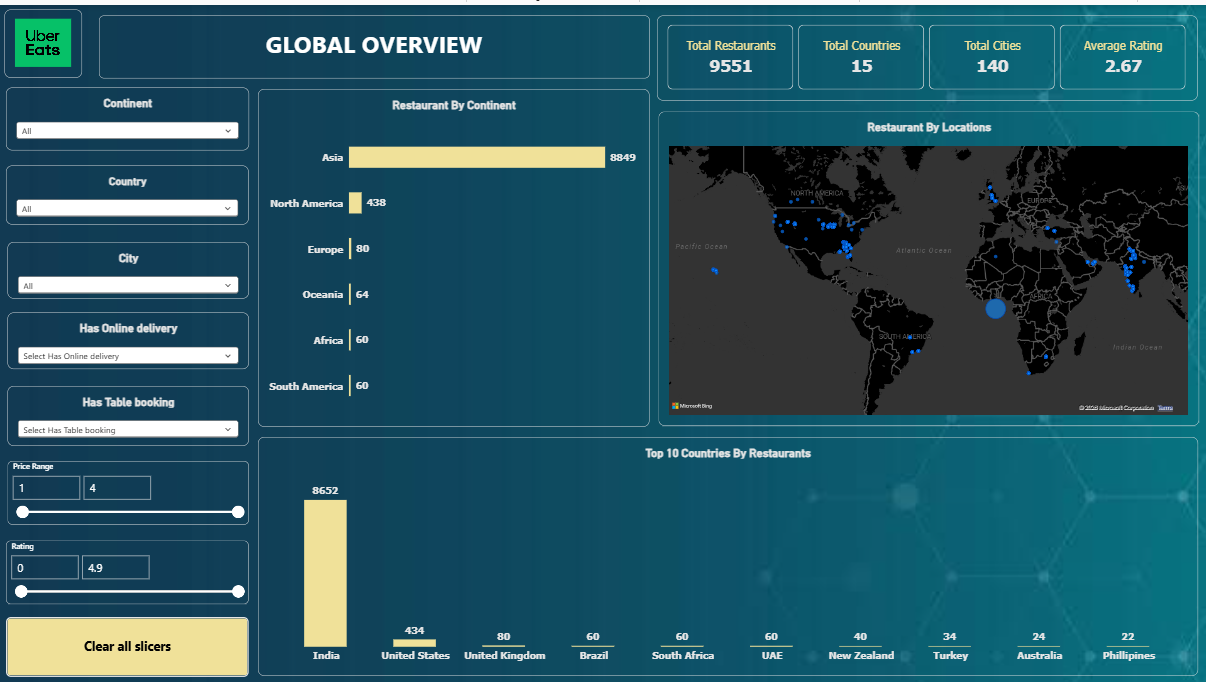

This screenshot's page, from the dashboard's own definition file:
{"tool":"powerbi","page":{"name":"Global Overview","canvas":[1920,1080],"ordinal":0},"visuals":[{"type":"image","box":[0,0,1920,1080],"z":0},{"type":"image","box":[8.3,8.3,123.3,108.3],"z":1000},{"type":"listSlicer","fields":{"Values":["Append1.Continent Hierarchy.Continent"]},"box":[9.5,131.2,386.5,100.2],"z":2000},{"type":"listSlicer","fields":{"Values":["Append1.Continent Hierarchy.Country"]},"box":[10,256,386,94],"z":3000},{"type":"listSlicer","fields":{"Values":["Append1.Continent Hierarchy.City"]},"box":[12,376,384,90],"z":4000},{"type":"listSlicer","fields":{"Values":["KPIs.Has Online delivery"]},"box":[12,490,384,90],"z":5000},{"type":"listSlicer","fields":{"Values":["KPIs.Has Table booking"]},"box":[12.5,605,383.8,95],"z":6000},{"type":"slicer","title":"Rating","fields":{"Values":["KPIs.Price range"]},"box":[12.5,726.2,383.8,101.2],"z":7000},{"type":"slicer","title":"Rating","fields":{"Values":["KPIs.Aggregate rating"]},"box":[10,852.5,386.2,101.2],"z":8000},{"type":"actionButton","box":[10,972.5,386.2,95],"z":9000},{"type":"textbox","box":[157.5,17.5,876.2,100],"z":10000},{"type":"cardVisual","fields":{"Data":["Rest Measures.Total Restaurants","Rest Measures.Total Countries","Rest Measures.Total Cities","Rest Measures.Average Rating"]},"box":[1045,17.5,860,135],"z":11000},{"type":"map","title":"Restaurant By Locations","fields":{"Size":["CountNonNull(Append1.Restaurant ID)"],"X":["Append1.Longitude"],"Y":["Append1.Latitude"]},"box":[1046.7,170,860,500],"z":12000},{"type":"clusteredBarChart","title":"Restaurant By Continent","fields":{"Category":["Append1.Continent"],"Y":["CountNonNull(Append1.Restaurant ID)"]},"box":[410,132.5,622.5,537.5],"z":13000},{"type":"clusteredColumnChart","title":"Top 10 Countries By Restaurants","fields":{"Category":["Append1.Country"],"Y":["CountNonNull(Append1.Restaurant ID)"]},"box":[410,687.5,1495,380],"z":14000}]}

Visuals, with their boxes in screenshot pixels (x1, y1, x2, y2), scaled from the page's 1920x1080 canvas onto the 1206x682 screenshot:
image: detection(0, 0, 1205, 681)
image: detection(5, 5, 83, 74)
listSlicer - Append1.Continent Hierarchy.Continent: detection(6, 83, 249, 146)
listSlicer - Append1.Continent Hierarchy.Country: detection(6, 162, 249, 221)
listSlicer - Append1.Continent Hierarchy.City: detection(8, 237, 249, 294)
listSlicer - KPIs.Has Online delivery: detection(8, 309, 249, 366)
listSlicer - KPIs.Has Table booking: detection(8, 382, 249, 442)
"Rating" slicer: detection(8, 459, 249, 522)
"Rating" slicer: detection(6, 538, 249, 602)
actionButton: detection(6, 614, 249, 674)
textbox: detection(99, 11, 649, 74)
cardVisual - Rest Measures.Total Restaurants x Rest Measures.Total Countries: detection(656, 11, 1197, 96)
"Restaurant By Locations" map: detection(657, 107, 1198, 423)
"Restaurant By Continent" clusteredBarChart: detection(258, 84, 649, 423)
"Top 10 Countries By Restaurants" clusteredColumnChart: detection(258, 434, 1197, 674)
